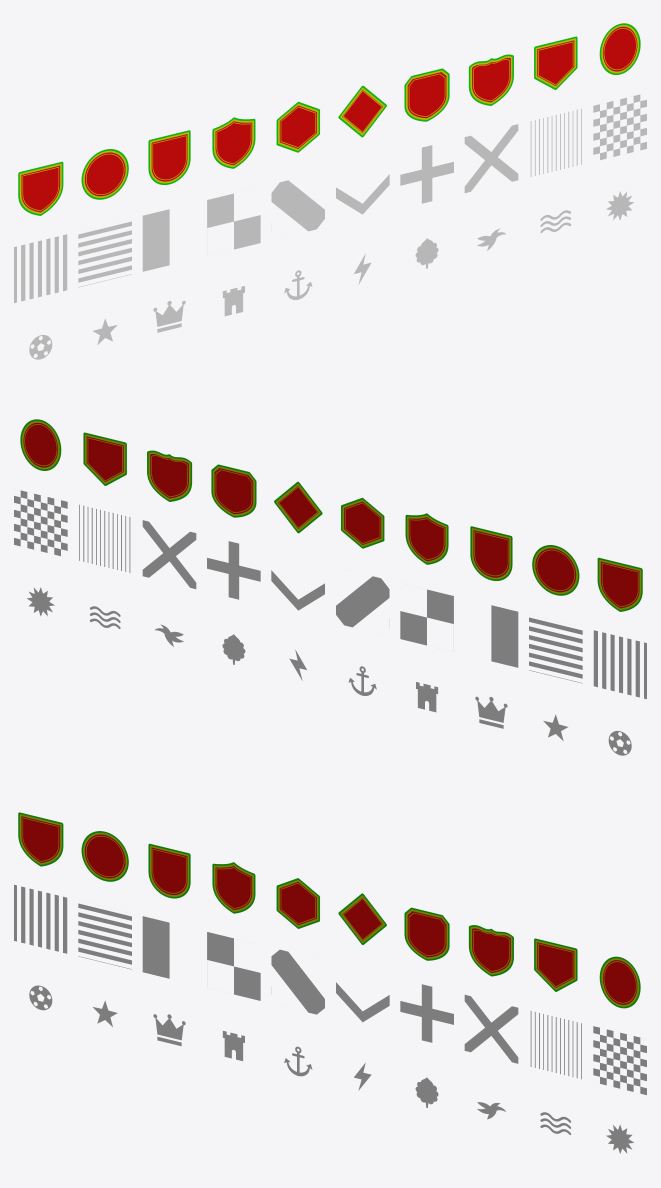
The model's file is crest.glb.
The picture shows the model from 3 angles, top to bottom: view 1: azimuth 30°, elevation 25°; view 2: azimuth 150°, elevation 25°; view 3: azimuth 330°, elevation 25°; orthographic projection.
Visible parts, largest first — view 1: SM_Shield_007_Cartouche, SM_Shield_003_Badge, SM_Shield_001_Classic, SM_Shield_002_Roundel, SM_Shield_008_Wave_Top, SM_Pattern_001_Stripes, SM_Shield_009_Home_Plate, SM_Shield_004_Pointed, SM_Pattern_010_Checkers, SM_Pattern_002_Hoops, SM_Shield_005_Hexagon, SM_Shield_010_Oval (+9 smaller); view 2: SM_Shield_007_Cartouche, SM_Shield_003_Badge, SM_Shield_001_Classic, SM_Shield_002_Roundel, SM_Shield_008_Wave_Top, SM_Pattern_001_Stripes, SM_Shield_009_Home_Plate, SM_Shield_004_Pointed, SM_Pattern_010_Checkers, SM_Pattern_002_Hoops, SM_Shield_005_Hexagon, SM_Shield_010_Oval (+9 smaller); view 3: SM_Shield_007_Cartouche, SM_Shield_003_Badge, SM_Shield_001_Classic, SM_Shield_002_Roundel, SM_Shield_008_Wave_Top, SM_Pattern_001_Stripes, SM_Shield_009_Home_Plate, SM_Shield_004_Pointed, SM_Pattern_010_Checkers, SM_Pattern_002_Hoops, SM_Shield_005_Hexagon, SM_Shield_010_Oval (+9 smaller).
Boxes of the visible parts, x1,y1,x2,y2 form: SM_Shield_007_Cartouche: [404, 68, 449, 121]; SM_Shield_003_Badge: [148, 130, 190, 184]; SM_Shield_001_Classic: [18, 162, 63, 215]; SM_Shield_002_Roundel: [81, 149, 128, 199]; SM_Shield_008_Wave_Top: [469, 54, 513, 105]; SM_Pattern_001_Stripes: [14, 234, 67, 303]; SM_Shield_009_Home_Plate: [534, 36, 577, 89]; SM_Shield_004_Pointed: [212, 117, 255, 168]; SM_Pattern_010_Checkers: [593, 94, 646, 160]; SM_Pattern_002_Hoops: [78, 221, 131, 287]; SM_Shield_005_Hexagon: [276, 102, 319, 152]; SM_Shield_010_Oval: [599, 23, 640, 74]; SM_Shield_007_Cartouche: [211, 464, 256, 517]; SM_Shield_003_Badge: [470, 526, 512, 580]; SM_Shield_001_Classic: [597, 558, 642, 611]; SM_Shield_002_Roundel: [532, 545, 579, 595]; SM_Shield_008_Wave_Top: [147, 450, 191, 501]; SM_Pattern_001_Stripes: [593, 630, 646, 699]; SM_Shield_009_Home_Plate: [83, 432, 126, 485]; SM_Shield_004_Pointed: [405, 513, 448, 564]; SM_Pattern_010_Checkers: [14, 490, 67, 556]; SM_Pattern_002_Hoops: [529, 617, 582, 683]; SM_Shield_005_Hexagon: [341, 498, 384, 548]; SM_Shield_010_Oval: [20, 419, 61, 470]; SM_Shield_007_Cartouche: [404, 907, 449, 960]; SM_Shield_003_Badge: [148, 843, 190, 898]; SM_Shield_001_Classic: [18, 812, 63, 866]; SM_Shield_002_Roundel: [81, 831, 128, 881]; SM_Shield_008_Wave_Top: [469, 925, 513, 976]; SM_Pattern_001_Stripes: [14, 884, 67, 953]; SM_Shield_009_Home_Plate: [534, 938, 577, 991]; SM_Shield_004_Pointed: [212, 862, 255, 913]; SM_Pattern_010_Checkers: [593, 1026, 646, 1095]; SM_Pattern_002_Hoops: [78, 903, 131, 969]; SM_Shield_005_Hexagon: [276, 878, 319, 928]; SM_Shield_010_Oval: [599, 956, 640, 1008].
Bounding box in the file's own units: 1.18 × 0.38 × 0.
30 materials, 30 textured.
